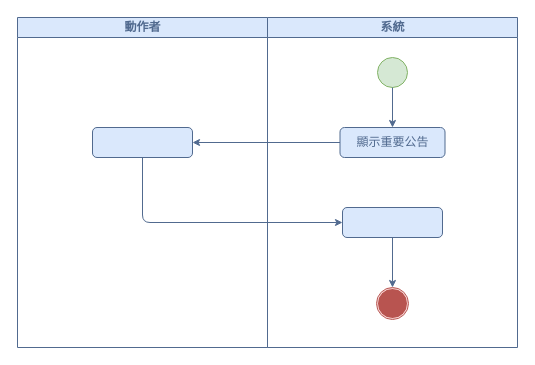
Image size: 535x365. Some labels were removed from this diagram. The centre of each missing label's shape, as x and y in pixels:
"顯示詳細內容" belongs at (x=392, y=222).
"點選任一條目" belongs at (x=142, y=142).
